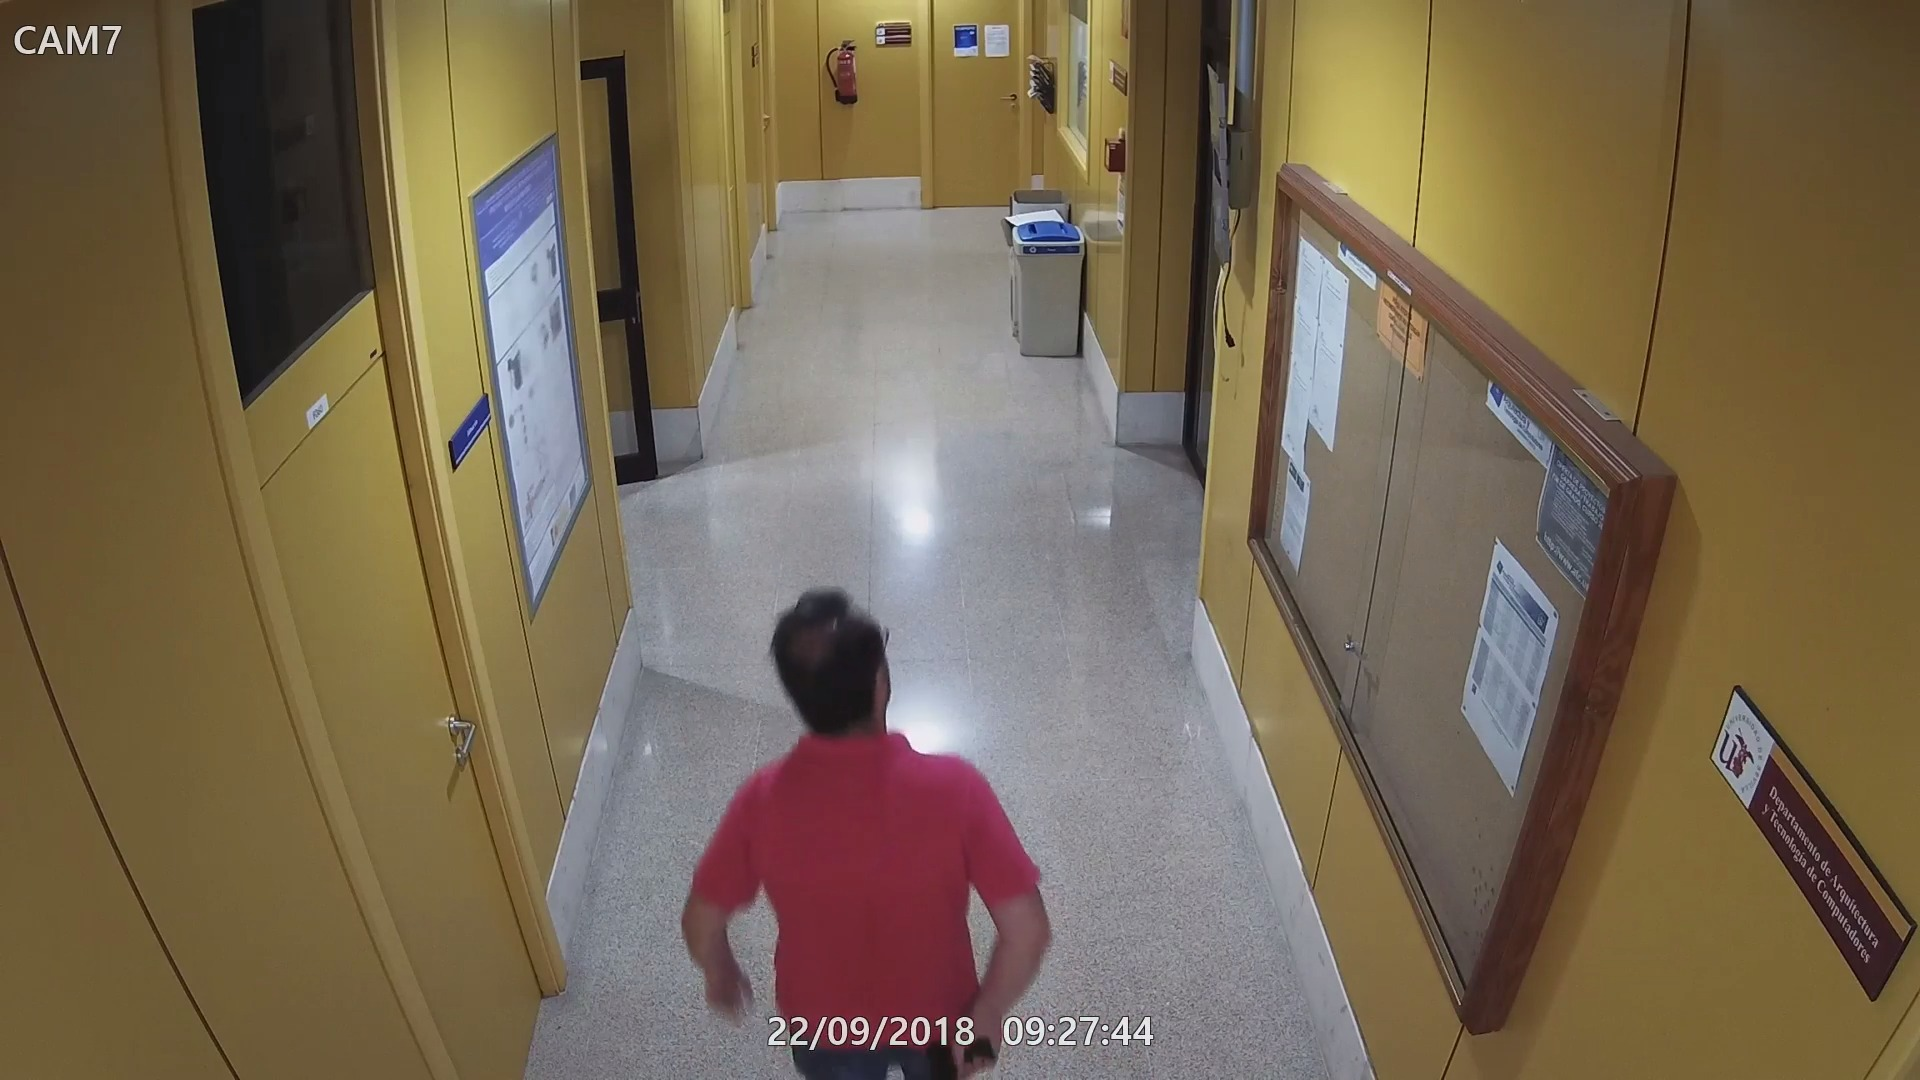Handgun: (926, 1021, 1004, 1080)
